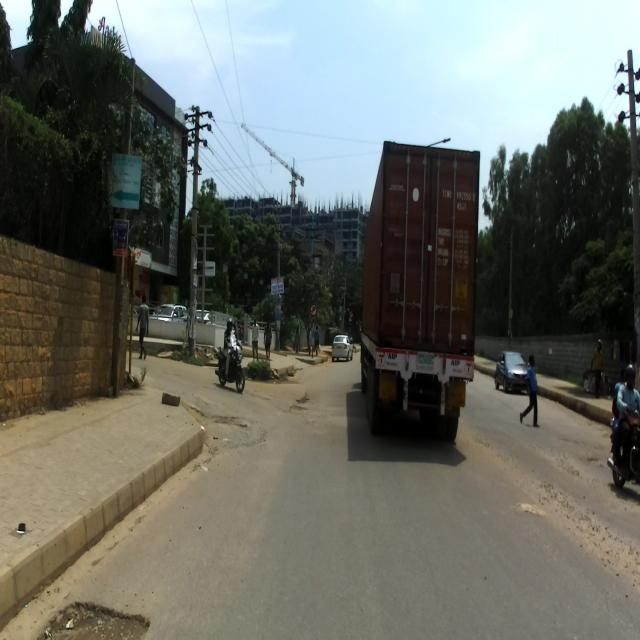Car_Maruti-Suzuki: (331, 334, 353, 361)
motorcycle_Honda: (216, 339, 245, 392)
truck: (359, 141, 480, 439)
